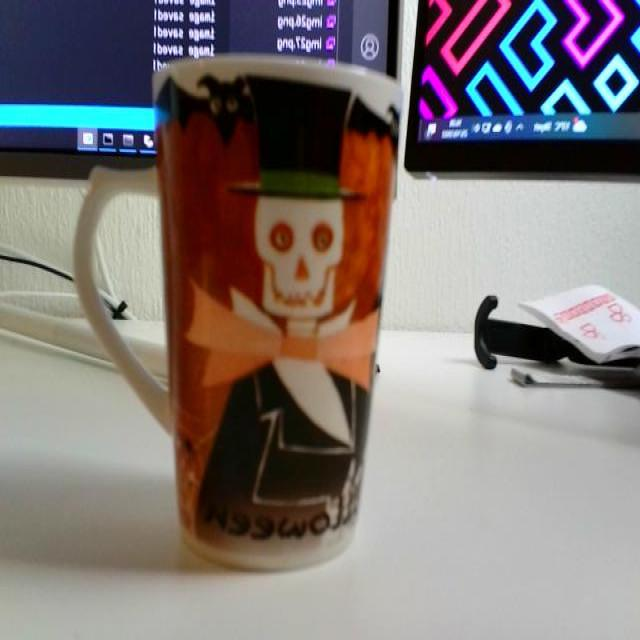cup: (68, 39, 410, 574)
